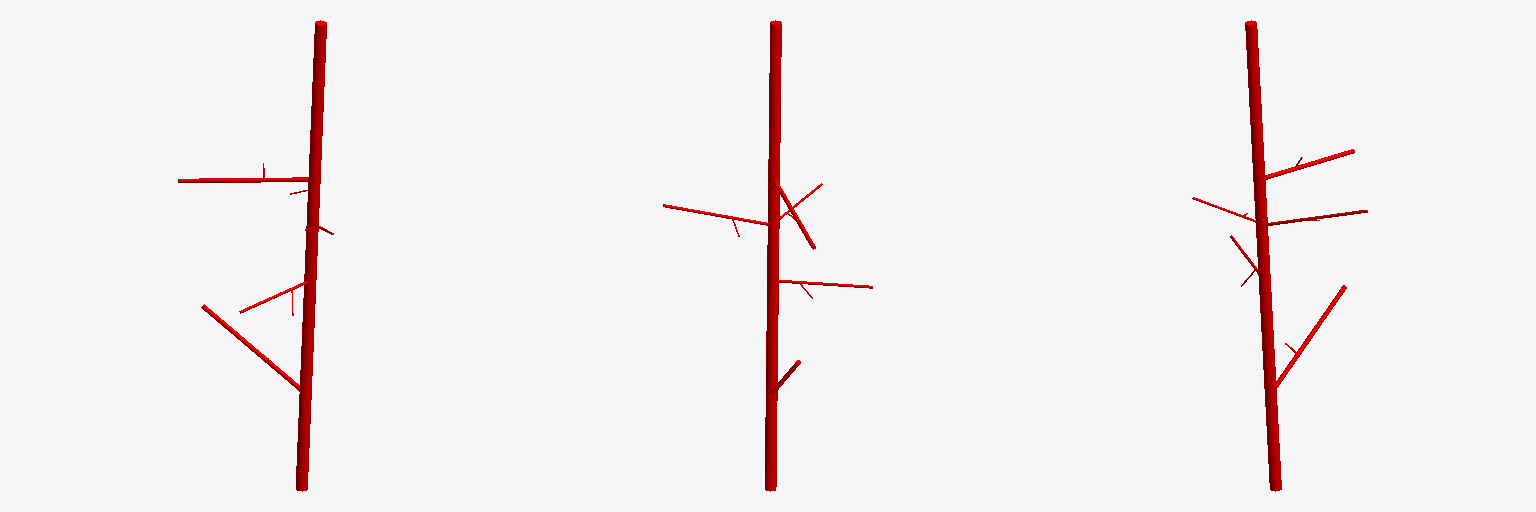
The robot description file, URDF, robot "tree_87.urdf":
<?xml version='1.0' encoding='UTF-8'?>
<robot name="tree_87.urdf">
  <link name="branch_0">
    <inertial>
      <origin xyz="0.0 0.0 0.0" rpy="0.0 -0.0 0.0"/>
      <mass value="0.1"/>
      <inertia ixx="0.001" ixy="0.0" ixz="0.0" iyy="0.001" iyz="0.0" izz="0.001"/>
    </inertial>
    <visual name="branch_0_visual">
      <geometry>
        <cylinder radius="0.07899300951540694" length="6.736195054797646"/>
      </geometry>
      <material name="semantic_material"/>
      <origin xyz="0.051103015188636504 -0.16105600121498945 3.3638564773755335" rpy="3.469446951953614e-18 0.05018858458691486 -1.2635448047402502"/>
    </visual>
    <collision name="branch_0_collision">
      <geometry>
        <cylinder radius="0.07899300951540694" length="6.736195054797646"/>
      </geometry>
      <origin xyz="0.051103015188636504 -0.16105600121498945 3.3638564773755335" rpy="3.469446951953614e-18 0.05018858458691486 -1.2635448047402502"/>
    </collision>
  </link>
  <link name="branch_1">
    <inertial>
      <origin xyz="0.0 0.0 0.0" rpy="0.0 -0.0 0.0"/>
      <mass value="0.1"/>
      <inertia ixx="0.001" ixy="0.0" ixz="0.0" iyy="0.001" iyz="0.0" izz="0.001"/>
    </inertial>
    <visual name="branch_1_visual">
      <geometry>
        <cylinder radius="0.01982837531330491" length="1.3629272782969202"/>
      </geometry>
      <material name="semantic_material"/>
      <origin xyz="0.0 0.0 0.0" rpy="0.0 -0.0 0.0"/>
    </visual>
    <collision name="branch_1_collision">
      <geometry>
        <cylinder radius="0.01982837531330491" length="1.3629272782969202"/>
      </geometry>
      <origin xyz="0.0 0.0 0.0" rpy="0.0 -0.0 0.0"/>
    </collision>
  </link>
  <link name="branch_2">
    <inertial>
      <origin xyz="0.0 0.0 0.0" rpy="0.0 -0.0 0.0"/>
      <mass value="0.1"/>
      <inertia ixx="0.001" ixy="0.0" ixz="0.0" iyy="0.001" iyz="0.0" izz="0.001"/>
    </inertial>
    <visual name="branch_2_visual">
      <geometry>
        <cylinder radius="0.01" length="0.3576376177566785"/>
      </geometry>
      <material name="semantic_material"/>
      <origin xyz="0.0 0.0 0.0" rpy="0.0 -0.0 0.0"/>
    </visual>
    <collision name="branch_2_collision">
      <geometry>
        <cylinder radius="0.01" length="0.3576376177566785"/>
      </geometry>
      <origin xyz="0.0 0.0 0.0" rpy="0.0 -0.0 0.0"/>
    </collision>
  </link>
  <link name="branch_3">
    <inertial>
      <origin xyz="0.0 0.0 0.0" rpy="0.0 -0.0 0.0"/>
      <mass value="0.1"/>
      <inertia ixx="0.001" ixy="0.0" ixz="0.0" iyy="0.001" iyz="0.0" izz="0.001"/>
    </inertial>
    <visual name="branch_3_visual">
      <geometry>
        <cylinder radius="0.02111563780688909" length="1.7570140805927887"/>
      </geometry>
      <material name="semantic_material"/>
      <origin xyz="0.0 0.0 0.0" rpy="0.0 -0.0 0.0"/>
    </visual>
    <collision name="branch_3_collision">
      <geometry>
        <cylinder radius="0.02111563780688909" length="1.7570140805927887"/>
      </geometry>
      <origin xyz="0.0 0.0 0.0" rpy="0.0 -0.0 0.0"/>
    </collision>
  </link>
  <link name="branch_4">
    <inertial>
      <origin xyz="0.0 0.0 0.0" rpy="0.0 -0.0 0.0"/>
      <mass value="0.1"/>
      <inertia ixx="0.001" ixy="0.0" ixz="0.0" iyy="0.001" iyz="0.0" izz="0.001"/>
    </inertial>
    <visual name="branch_4_visual">
      <geometry>
        <cylinder radius="0.01" length="0.3641257977548168"/>
      </geometry>
      <material name="semantic_material"/>
      <origin xyz="0.0 0.0 0.0" rpy="0.0 -0.0 0.0"/>
    </visual>
    <collision name="branch_4_collision">
      <geometry>
        <cylinder radius="0.01" length="0.3641257977548168"/>
      </geometry>
      <origin xyz="0.0 0.0 0.0" rpy="0.0 -0.0 0.0"/>
    </collision>
  </link>
  <link name="branch_5">
    <inertial>
      <origin xyz="0.0 0.0 0.0" rpy="0.0 -0.0 0.0"/>
      <mass value="0.1"/>
      <inertia ixx="0.001" ixy="0.0" ixz="0.0" iyy="0.001" iyz="0.0" izz="0.001"/>
    </inertial>
    <visual name="branch_5_visual">
      <geometry>
        <cylinder radius="0.016408991012913723" length="0.9645224685348386"/>
      </geometry>
      <material name="semantic_material"/>
      <origin xyz="0.0 0.0 0.0" rpy="0.0 -0.0 0.0"/>
    </visual>
    <collision name="branch_5_collision">
      <geometry>
        <cylinder radius="0.016408991012913723" length="0.9645224685348386"/>
      </geometry>
      <origin xyz="0.0 0.0 0.0" rpy="0.0 -0.0 0.0"/>
    </collision>
  </link>
  <link name="branch_6">
    <inertial>
      <origin xyz="0.0 0.0 0.0" rpy="0.0 -0.0 0.0"/>
      <mass value="0.1"/>
      <inertia ixx="0.001" ixy="0.0" ixz="0.0" iyy="0.001" iyz="0.0" izz="0.001"/>
    </inertial>
    <visual name="branch_6_visual">
      <geometry>
        <cylinder radius="0.01" length="0.17969665352081082"/>
      </geometry>
      <material name="semantic_material"/>
      <origin xyz="0.0 0.0 0.0" rpy="0.0 -0.0 0.0"/>
    </visual>
    <collision name="branch_6_collision">
      <geometry>
        <cylinder radius="0.01" length="0.17969665352081082"/>
      </geometry>
      <origin xyz="0.0 0.0 0.0" rpy="0.0 -0.0 0.0"/>
    </collision>
  </link>
  <link name="branch_7">
    <inertial>
      <origin xyz="0.0 0.0 0.0" rpy="0.0 -0.0 0.0"/>
      <mass value="0.1"/>
      <inertia ixx="0.001" ixy="0.0" ixz="0.0" iyy="0.001" iyz="0.0" izz="0.001"/>
    </inertial>
    <visual name="branch_7_visual">
      <geometry>
        <cylinder radius="0.03150184187764646" length="1.7486226384057038"/>
      </geometry>
      <material name="semantic_material"/>
      <origin xyz="0.0 0.0 0.0" rpy="0.0 -0.0 0.0"/>
    </visual>
    <collision name="branch_7_collision">
      <geometry>
        <cylinder radius="0.03150184187764646" length="1.7486226384057038"/>
      </geometry>
      <origin xyz="0.0 0.0 0.0" rpy="0.0 -0.0 0.0"/>
    </collision>
  </link>
  <link name="branch_8">
    <inertial>
      <origin xyz="0.0 0.0 0.0" rpy="0.0 -0.0 0.0"/>
      <mass value="0.1"/>
      <inertia ixx="0.001" ixy="0.0" ixz="0.0" iyy="0.001" iyz="0.0" izz="0.001"/>
    </inertial>
    <visual name="branch_8_visual">
      <geometry>
        <cylinder radius="0.012348237238605184" length="0.22020448782279936"/>
      </geometry>
      <material name="semantic_material"/>
      <origin xyz="0.0 0.0 0.0" rpy="0.0 -0.0 0.0"/>
    </visual>
    <collision name="branch_8_collision">
      <geometry>
        <cylinder radius="0.012348237238605184" length="0.22020448782279936"/>
      </geometry>
      <origin xyz="0.0 0.0 0.0" rpy="0.0 -0.0 0.0"/>
    </collision>
  </link>
  <link name="branch_9">
    <inertial>
      <origin xyz="0.0 0.0 0.0" rpy="0.0 -0.0 0.0"/>
      <mass value="0.1"/>
      <inertia ixx="0.001" ixy="0.0" ixz="0.0" iyy="0.001" iyz="0.0" izz="0.001"/>
    </inertial>
    <visual name="branch_9_visual">
      <geometry>
        <cylinder radius="0.030131390012700456" length="1.8088339959337576"/>
      </geometry>
      <material name="semantic_material"/>
      <origin xyz="0.0 0.0 0.0" rpy="0.0 -0.0 0.0"/>
    </visual>
    <collision name="branch_9_collision">
      <geometry>
        <cylinder radius="0.030131390012700456" length="1.8088339959337576"/>
      </geometry>
      <origin xyz="0.0 0.0 0.0" rpy="0.0 -0.0 0.0"/>
    </collision>
  </link>
  <link name="branch_10">
    <inertial>
      <origin xyz="0.0 0.0 0.0" rpy="0.0 -0.0 0.0"/>
      <mass value="0.1"/>
      <inertia ixx="0.001" ixy="0.0" ixz="0.0" iyy="0.001" iyz="0.0" izz="0.001"/>
    </inertial>
    <visual name="branch_10_visual">
      <geometry>
        <cylinder radius="0.01" length="0.22308422714215734"/>
      </geometry>
      <material name="semantic_material"/>
      <origin xyz="0.0 0.0 0.0" rpy="0.0 -0.0 0.0"/>
    </visual>
    <collision name="branch_10_collision">
      <geometry>
        <cylinder radius="0.01" length="0.22308422714215734"/>
      </geometry>
      <origin xyz="0.0 0.0 0.0" rpy="0.0 -0.0 0.0"/>
    </collision>
  </link>
  <joint name="joint_0_1" type="fixed">
    <parent link="branch_0"/>
    <child link="branch_1"/>
    <axis xyz="1. 0. 0."/>
    <origin xyz="-0.5998478960022553 -0.361848872384712 3.021477873147885" rpy="-1.1672836726350326 1.5162288502568673 2.299292912406761"/>
  </joint>
  <joint name="joint_0_3" type="fixed">
    <parent link="branch_0"/>
    <child link="branch_3"/>
    <axis xyz="1. 0. 0."/>
    <origin xyz="0.5126385470630861 0.5004089453484079 4.120699323090739" rpy="0.10765323045736679 1.2024341990220004 1.0984053867378165"/>
  </joint>
  <joint name="joint_0_5" type="fixed">
    <parent link="branch_0"/>
    <child link="branch_5"/>
    <axis xyz="1. 0. 0."/>
    <origin xyz="-0.05296858133740095 -0.6335993438942948 3.9645642846346076" rpy="-0.09621210886462936 1.2908289714724093 -1.913032723620817"/>
  </joint>
  <joint name="joint_0_7" type="fixed">
    <parent link="branch_0"/>
    <child link="branch_7"/>
    <axis xyz="1. 0. 0."/>
    <origin xyz="-0.4663674373110984 0.4174092085591674 1.9175913136356988" rpy="-0.036293947353836696 0.9020975908669288 2.314056414046357"/>
  </joint>
  <joint name="joint_0_9" type="fixed">
    <parent link="branch_0"/>
    <child link="branch_9"/>
    <axis xyz="1. 0. 0."/>
    <origin xyz="-0.5908348517140434 0.39708687264007997 4.364689059392971" rpy="-2.92752734635112 1.4533690834416968 -0.5323470702960322"/>
  </joint>
  <joint name="joint_1_2" type="fixed">
    <parent link="branch_0"/>
    <child link="branch_2"/>
    <axis xyz="1. 0. 0."/>
    <origin xyz="-0.3402572610615699 -0.3517621529028086 2.8710600676698075" rpy="2.6286637979250926 0.4014477659973252 0.11974516187362871"/>
  </joint>
  <joint name="joint_3_4" type="fixed">
    <parent link="branch_0"/>
    <child link="branch_4"/>
    <axis xyz="1. 0. 0."/>
    <origin xyz="0.27710992834792403 0.4514044210755602 3.982669620929965" rpy="1.933157748486238 0.3840464329590538 -2.2079442974203123"/>
  </joint>
  <joint name="joint_5_6" type="fixed">
    <parent link="branch_0"/>
    <child link="branch_6"/>
    <axis xyz="1. 0. 0."/>
    <origin xyz="-0.08625500961582197 -0.4024987297265838 3.8872785106599417" rpy="-1.7753221492286322 0.2527381903006007 1.1860740546039088"/>
  </joint>
  <joint name="joint_7_8" type="fixed">
    <parent link="branch_0"/>
    <child link="branch_8"/>
    <axis xyz="1. 0. 0."/>
    <origin xyz="-0.3795247562512172 0.20559231773390985 1.830379157030105" rpy="0.8731585318035462 0.5726566697931816 -0.9344034541881976"/>
  </joint>
  <joint name="joint_9_10" type="fixed">
    <parent link="branch_0"/>
    <child link="branch_10"/>
    <axis xyz="1. 0. 0."/>
    <origin xyz="-0.39536143757011327 0.2899168668363526 4.487427708882226" rpy="-0.5140571538602924 -0.16552985084566305 -0.7190249557027067"/>
  </joint>
  <material name="semantic_material">
    <color rgba="1. 0. 0. 1."/>
  </material>
</robot>

--- Facts derived from the render (not from the file) ---
The picture shows the robot from 3 angles, left to right: view 1: azimuth 30°, elevation 25°; view 2: azimuth 150°, elevation 25°; view 3: azimuth 270°, elevation 25°; orthographic projection.
Robot: tree_87.urdf — 11 links, 10 joints (10 fixed); root link branch_0; default pose: every joint at zero.
Visible links, largest first — view 1: branch_0, branch_7, branch_9; view 2: branch_0; view 3: branch_0, branch_7.
Boxes of the visible links, x1,y1,x2,y2 form: branch_0: [296, 20, 326, 491]; branch_7: [201, 304, 299, 391]; branch_9: [178, 177, 308, 182]; branch_0: [765, 20, 781, 491]; branch_0: [1245, 20, 1281, 491]; branch_7: [1276, 285, 1346, 387].
Bounding box of the posed robot: 2.26 × 2.29 × 6.74 m (x, y, z).
Geometry: primitives only (box / cylinder / sphere), no mesh files.
